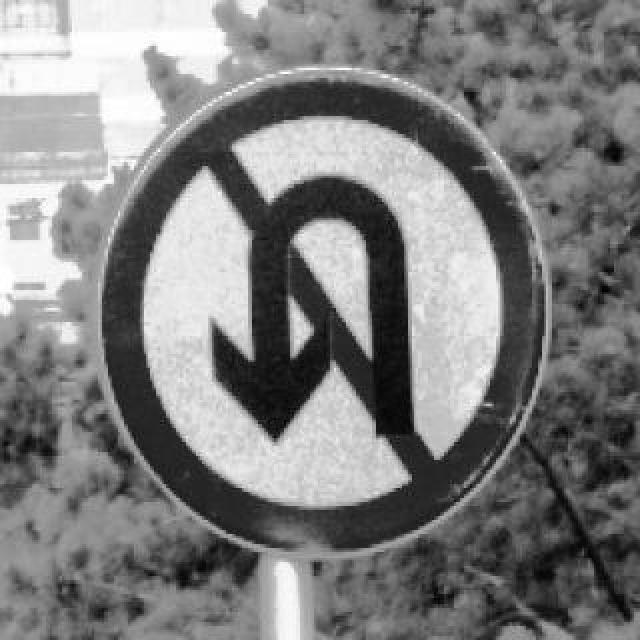no u turn: (88, 60, 552, 556)
